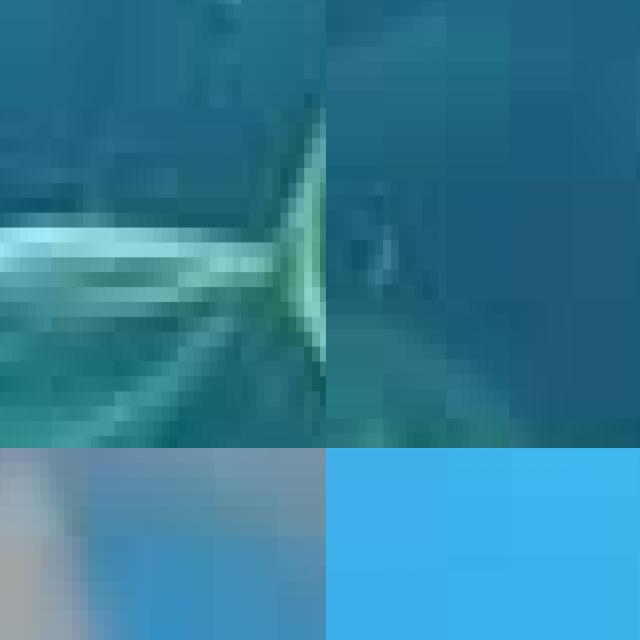fish: (0, 0, 326, 448)
